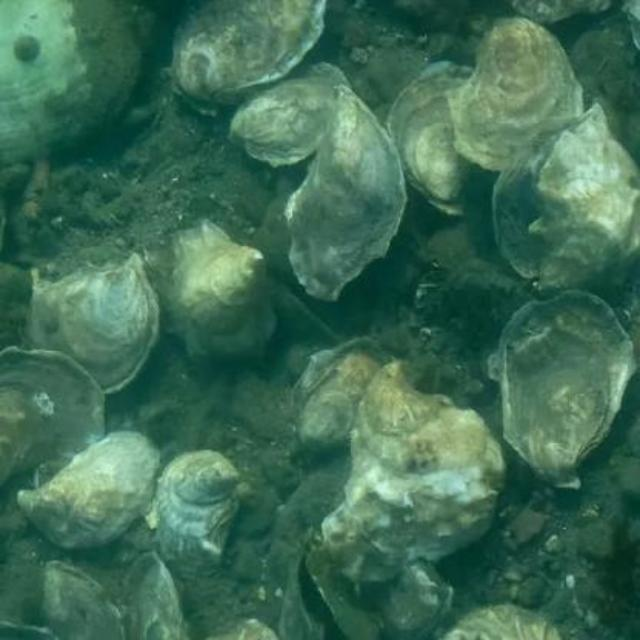Oyster-Closed: (23, 256, 162, 396)
Oyster-Indeterminate: (323, 360, 506, 584), (494, 291, 637, 488), (284, 86, 407, 299), (0, 0, 145, 161), (447, 16, 585, 171), (530, 107, 640, 296), (145, 226, 279, 361), (17, 431, 164, 550), (494, 107, 592, 279), (172, 0, 329, 104), (388, 61, 485, 217), (0, 348, 106, 488), (230, 62, 351, 165), (294, 338, 393, 454), (157, 449, 239, 575), (40, 560, 127, 640), (121, 554, 194, 640), (376, 558, 452, 632), (177, 457, 237, 501), (509, 0, 610, 24)
Oyster-Open: (286, 531, 385, 640)
